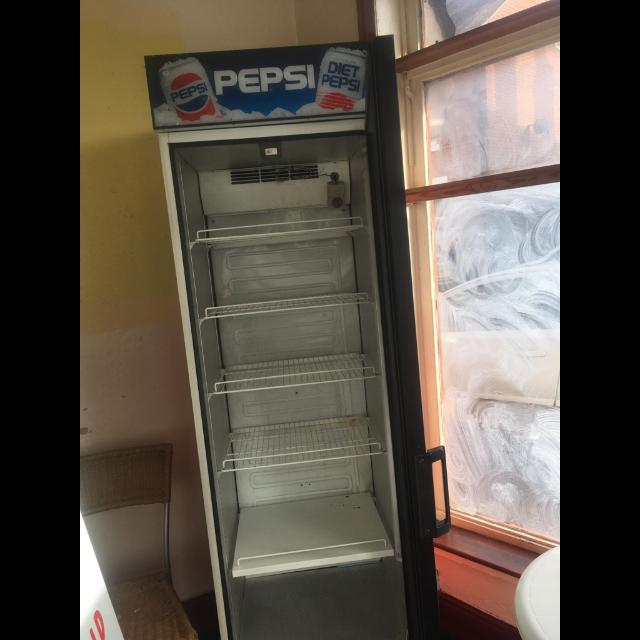Cooling-Display: (125, 26, 461, 620)
